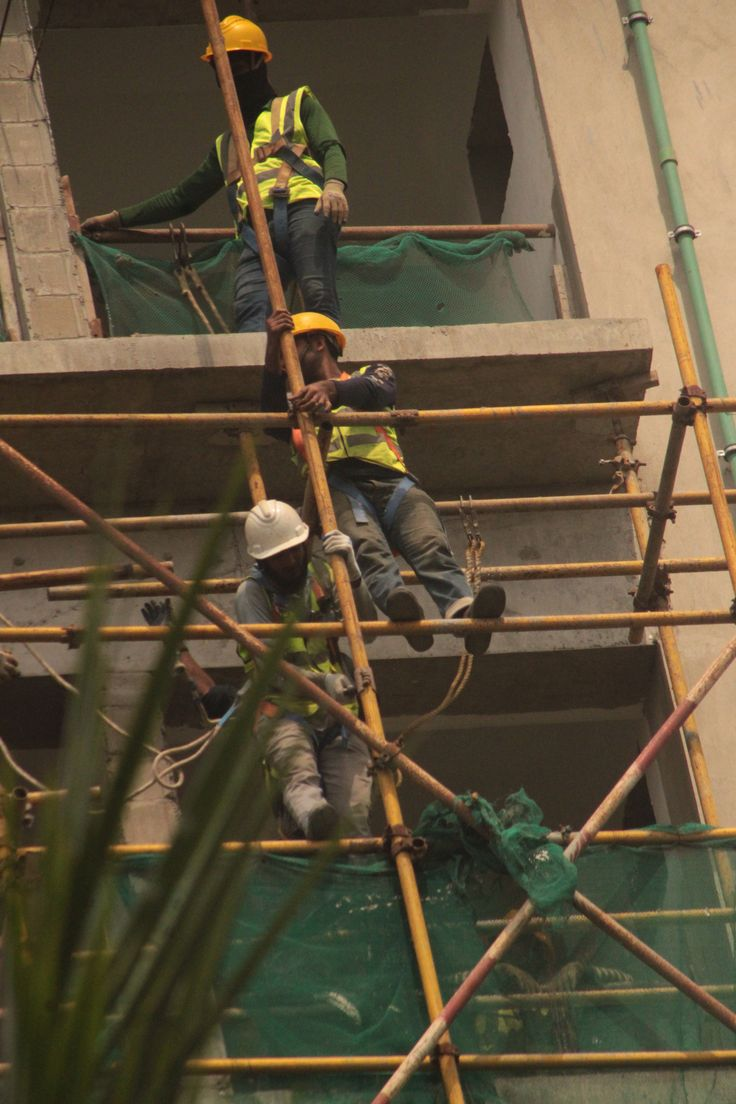hardhat: (235, 503, 340, 563), (201, 12, 278, 76), (284, 306, 350, 342)
person: (106, 9, 345, 358), (267, 297, 506, 646), (206, 498, 401, 900)
safety_vest: (193, 105, 335, 226), (247, 577, 361, 727), (291, 370, 443, 482)
